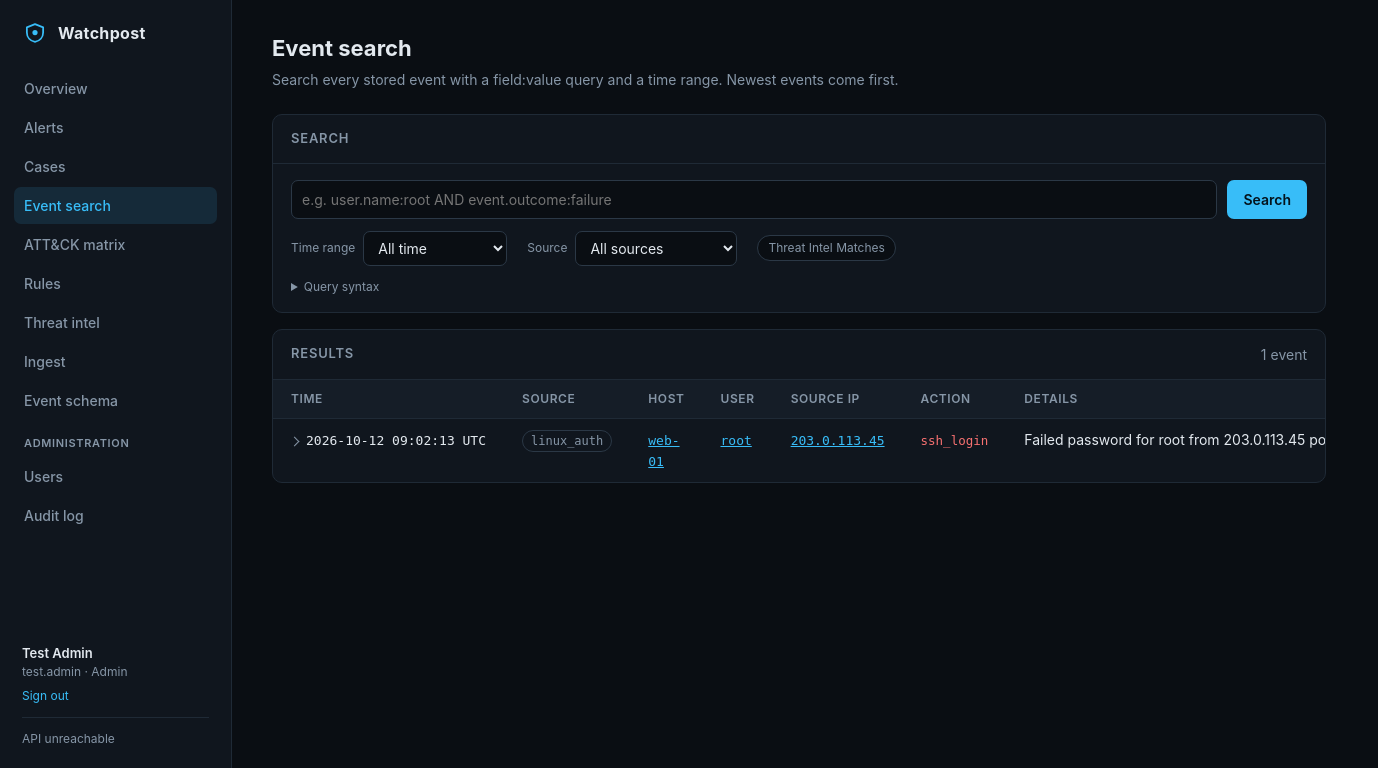
it: EventsPage threat intel matches › explains an empty filtered list
Expected: the button "2026-10-12 09:02:13 UTC" is shown, [291, 431, 486, 451]
Click the button "Threat intel matches": (827,248) [757, 235, 896, 261]
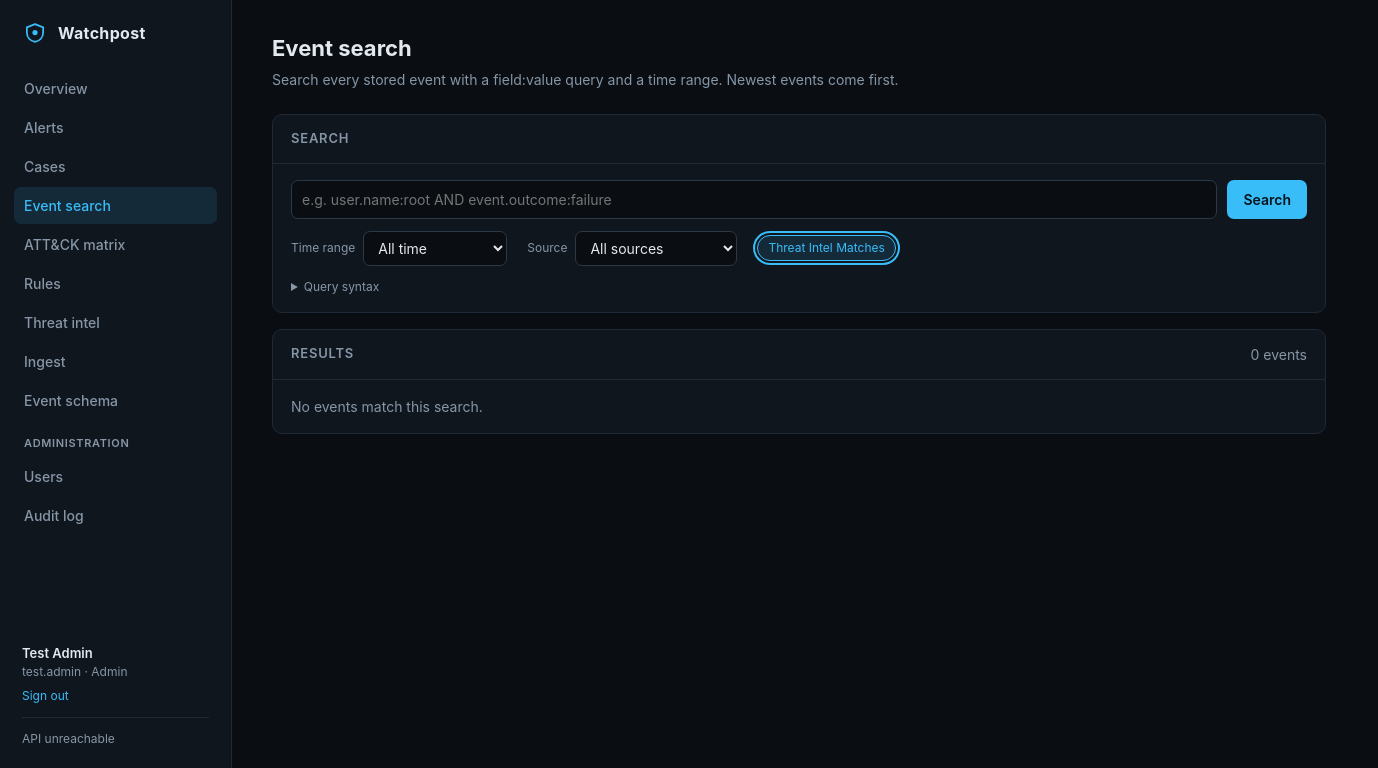
Now the text "No events match this search." is shown, box [291, 398, 483, 414]
